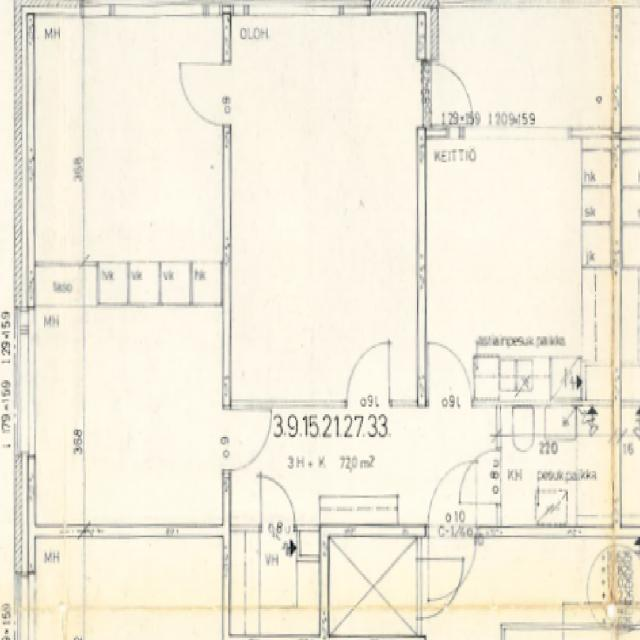door: (428, 459, 477, 537), (428, 526, 477, 604), (423, 62, 474, 123), (223, 410, 274, 471), (180, 65, 230, 126), (428, 339, 471, 407), (347, 342, 389, 406), (458, 452, 500, 504), (261, 479, 295, 533)
